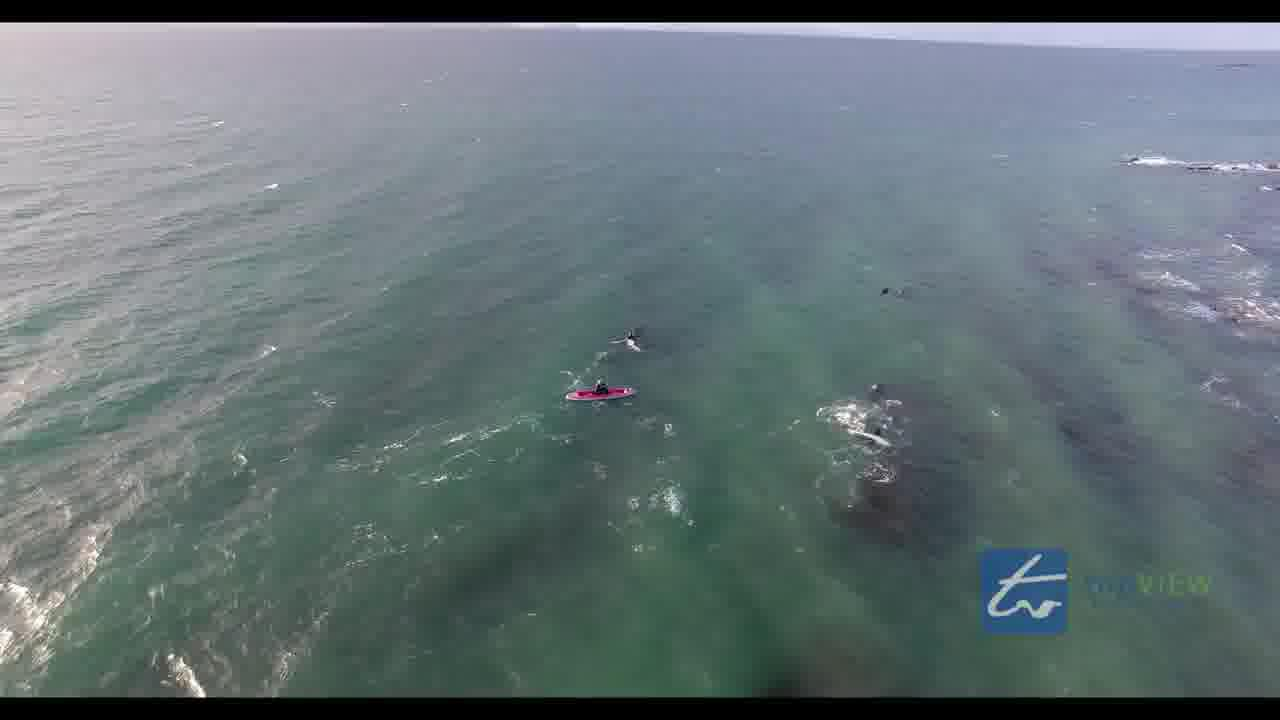human: (584, 373, 612, 402), (614, 327, 645, 349)
